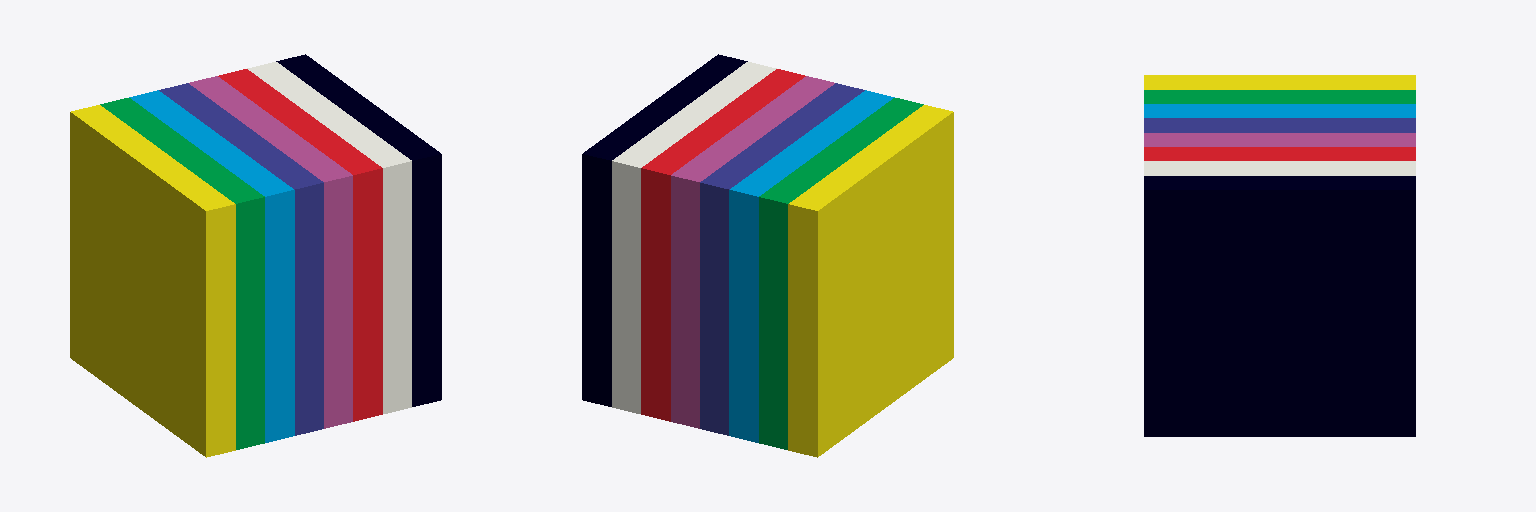
The model's file is RainbowCube.obj.
3 views of the same model, side by side, from view 1: azimuth 30°, elevation 25°; view 2: azimuth 150°, elevation 25°; view 3: azimuth 270°, elevation 25° (orthographic).
Size of the model in its own units: 8 by 8 by 8.